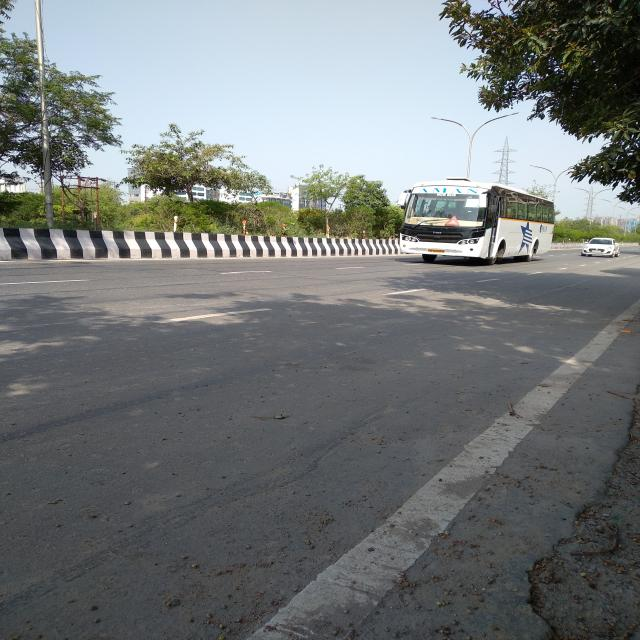Bus: (396, 178, 548, 268)
